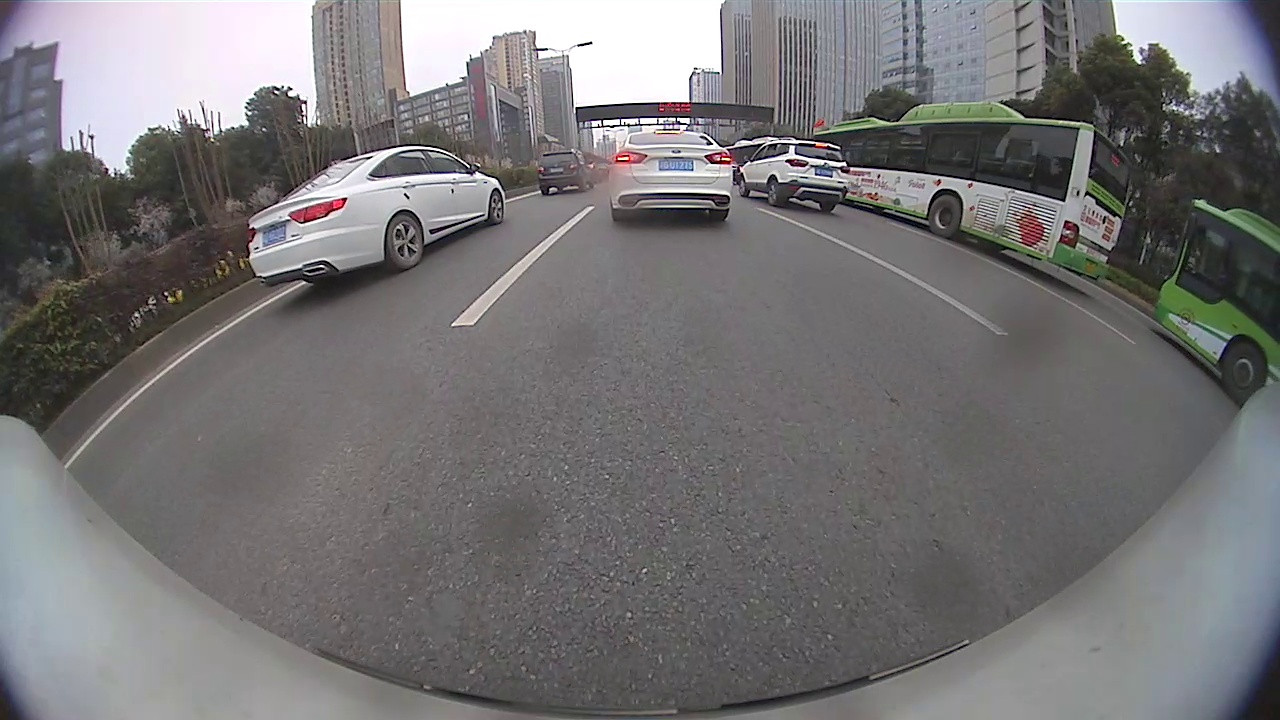bus: (813, 101, 1133, 280), (1154, 199, 1279, 409), (724, 136, 796, 185)
car: (248, 146, 506, 288), (609, 130, 733, 222), (734, 137, 850, 213), (537, 149, 596, 196)
front: (1218, 337, 1268, 405), (487, 192, 507, 226), (738, 176, 754, 197)
rear: (383, 213, 428, 270), (928, 190, 964, 240), (767, 176, 779, 208)
